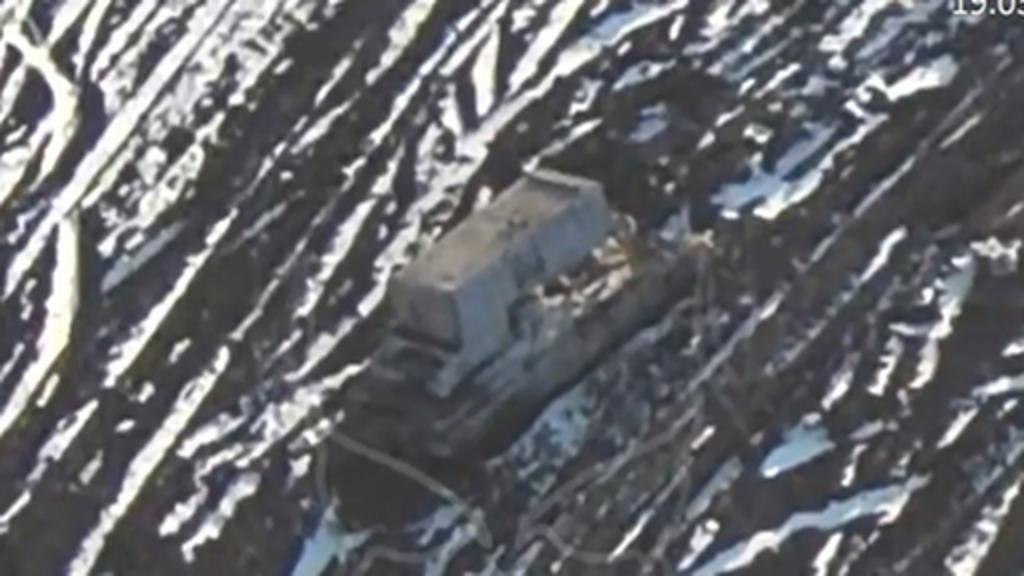MLRS: (332, 140, 692, 474)
